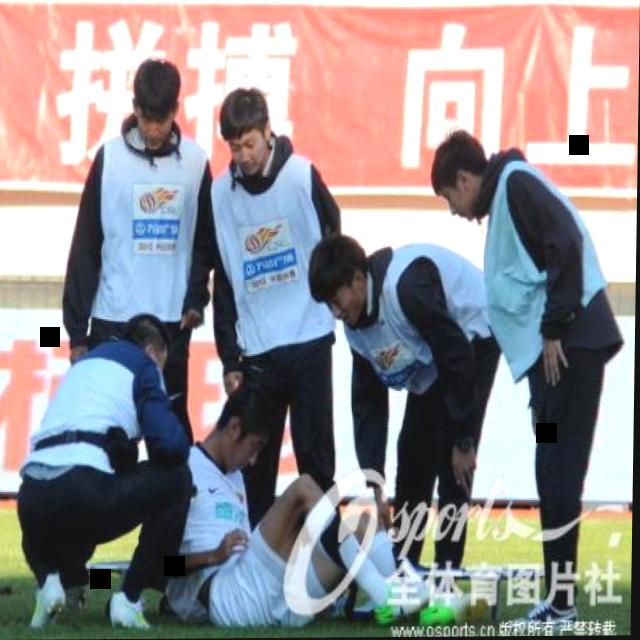Fall-Detected: (151, 364, 406, 636)
